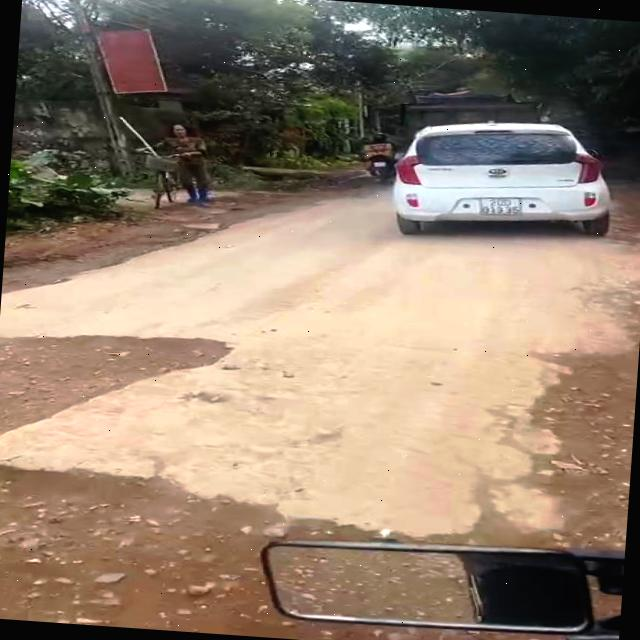pothole: (0, 457, 605, 640), (466, 330, 640, 574), (0, 316, 243, 459)
